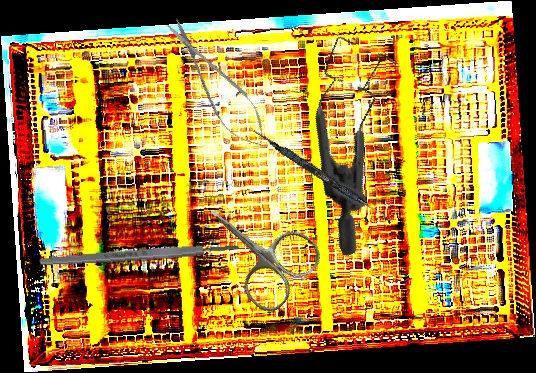Iris Scissors: (184, 178, 327, 319)
Micro Scissor: (155, 10, 278, 157)
Scalpel Handle: (38, 241, 240, 268)
Spatula Surgical: (249, 128, 396, 224)
Speculum: (251, 18, 466, 258)
